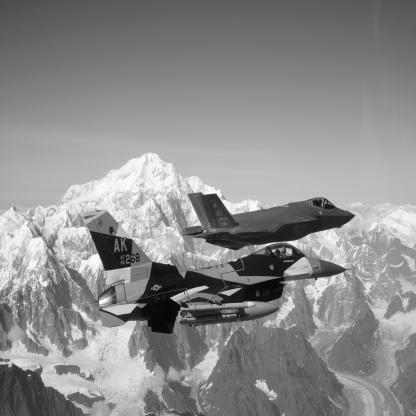F16: (82, 210, 356, 335)
F35: (183, 193, 357, 252)
